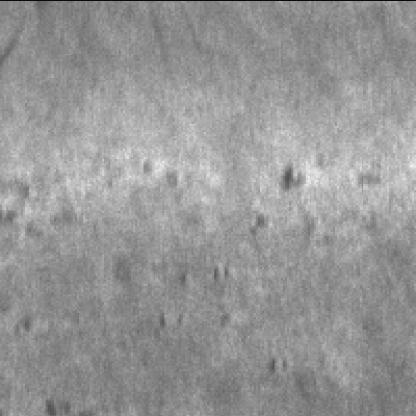rolled-in_scale: (146, 252, 288, 368), (296, 158, 400, 250)
